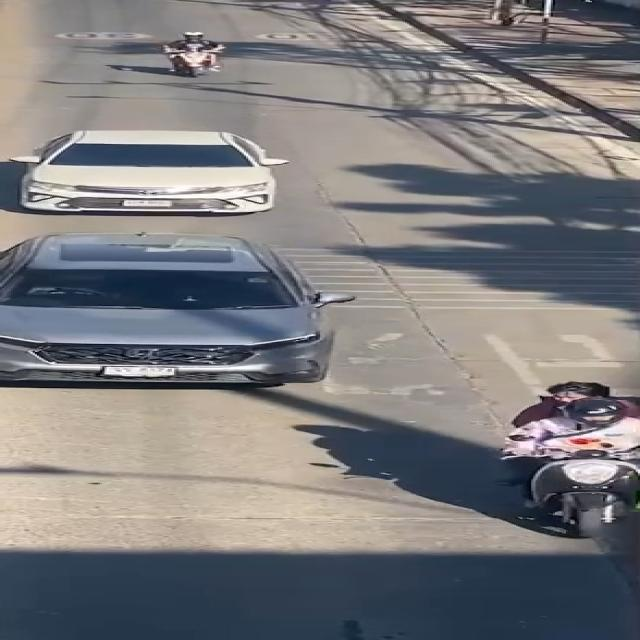car: (0, 219, 394, 403), (0, 123, 317, 219)
